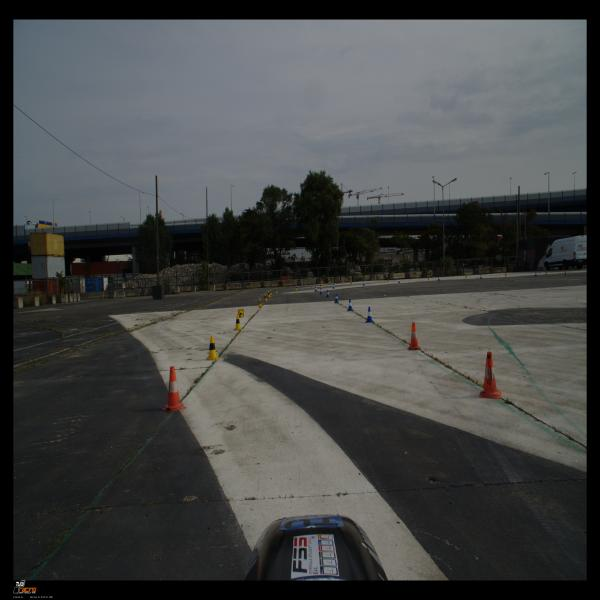blue_cone: (365, 307, 374, 323), (347, 299, 354, 311), (334, 294, 339, 303), (326, 290, 330, 298), (314, 286, 317, 292), (320, 288, 323, 294), (534, 272, 538, 276), (332, 284, 335, 288), (398, 279, 401, 283), (438, 276, 440, 281), (480, 274, 482, 279), (363, 281, 365, 285)
orange_cone: (162, 366, 187, 412), (479, 352, 501, 398), (408, 322, 421, 351), (564, 270, 568, 276)
yellow_cone: (206, 335, 220, 360), (233, 314, 243, 331), (238, 308, 244, 317), (258, 298, 263, 308), (264, 294, 268, 301), (267, 291, 271, 298), (275, 288, 278, 293), (270, 290, 272, 296), (295, 286, 298, 290), (350, 281, 353, 285), (427, 276, 430, 280), (320, 283, 322, 288), (387, 278, 389, 283), (465, 274, 467, 279), (505, 272, 507, 276), (545, 270, 547, 274)
